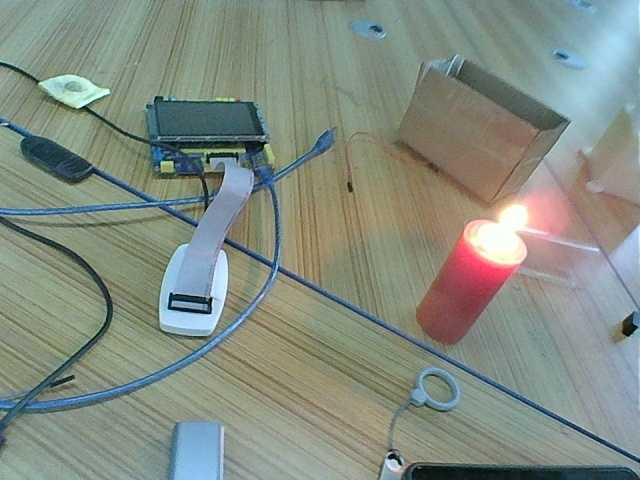candle: (414, 237, 507, 344)
fire: (473, 200, 537, 254)
